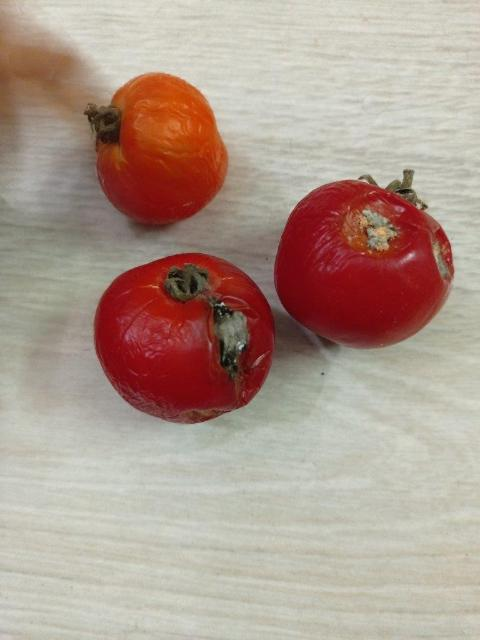defect: (273, 165, 458, 353), (92, 250, 276, 427), (83, 69, 231, 229)
